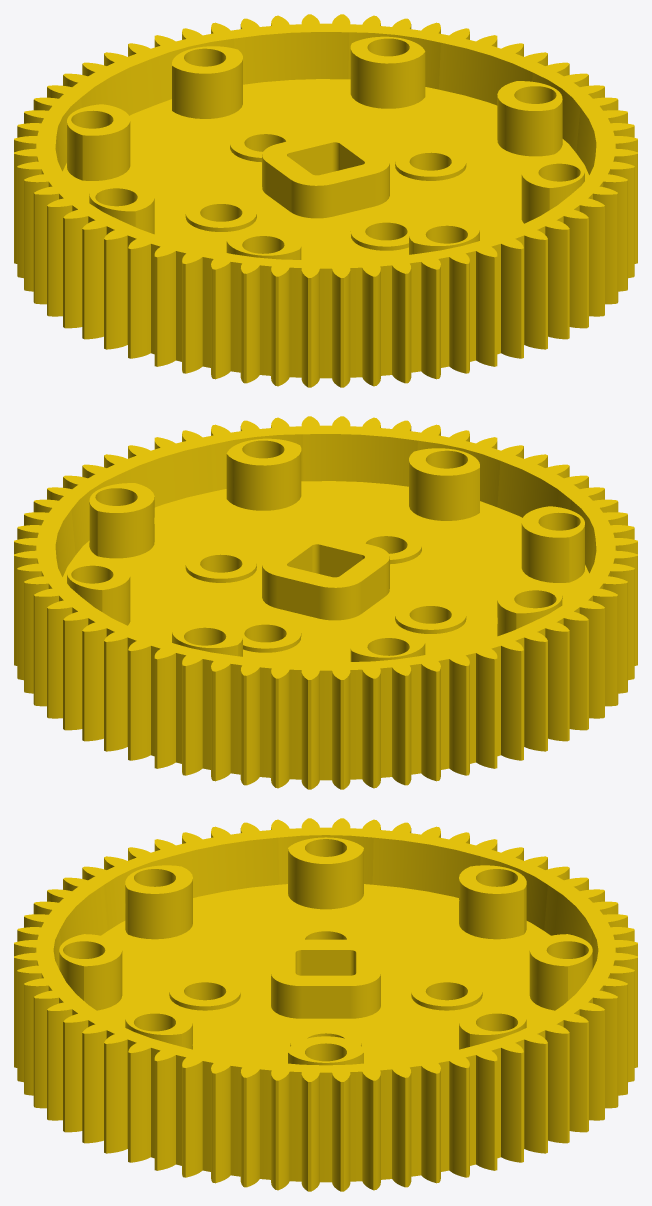
The model's file is large-gear.glb.
3 views of the same model, one above another, from view 1: azimuth 30°, elevation 25°; view 2: azimuth 150°, elevation 25°; view 3: azimuth 270°, elevation 25° (orthographic).
Visible parts, largest first — view 1: Body1; view 2: Body1; view 3: Body1.
Boxes of the visible parts, bbox=[...] form: Body1: bbox=[14, 14, 637, 387]; Body1: bbox=[14, 416, 637, 789]; Body1: bbox=[14, 818, 637, 1191].
Bounding box in the file's own units: 65.54 × 12.7 × 65.54.
